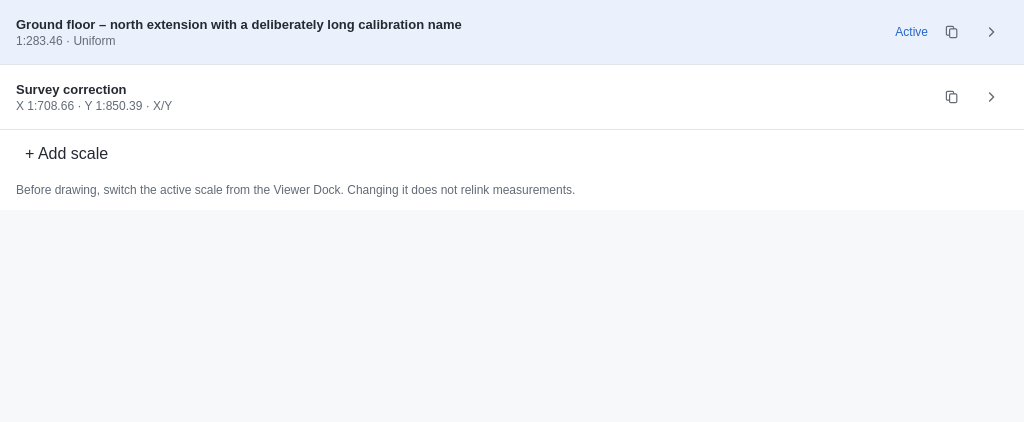
Test: ScalesWorkspace › keeps disclosure and long-name recovery on the dedicated governed target
Expected: the text named "Ground floor – north extension with a deliberately long cali" reads "Ground floor – north extension with a deliberately long calibration name", top-left (16, 16), bottom-right (462, 32)
Click the button named "Expand scale Ground floor – north extension with a deliberat": (992, 32) top-left (976, 16), bottom-right (1008, 48)
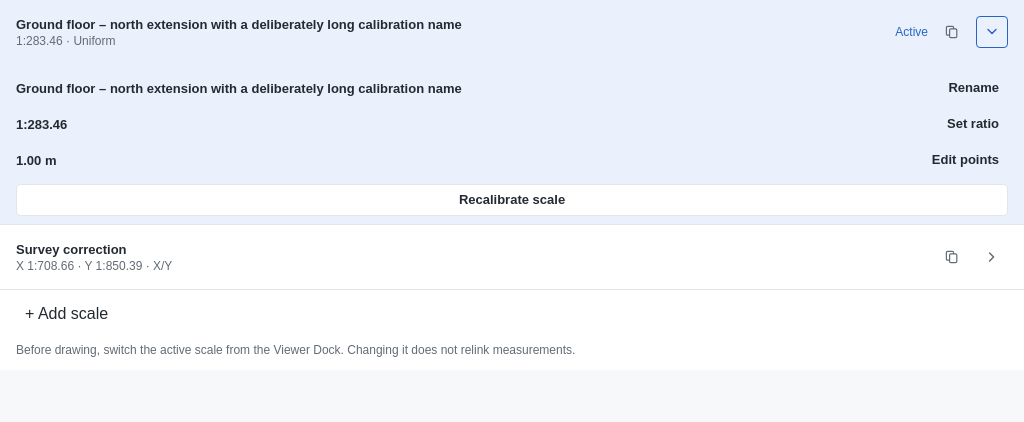
Expected: the text named "Ground floor – north extension with a deliberately long cali" reads "Ground floor – north extension with a deliberately long calibration name", top-left (16, 16), bottom-right (462, 32)
Click the button "Rename": (974, 88) top-left (939, 72), bottom-right (1008, 104)
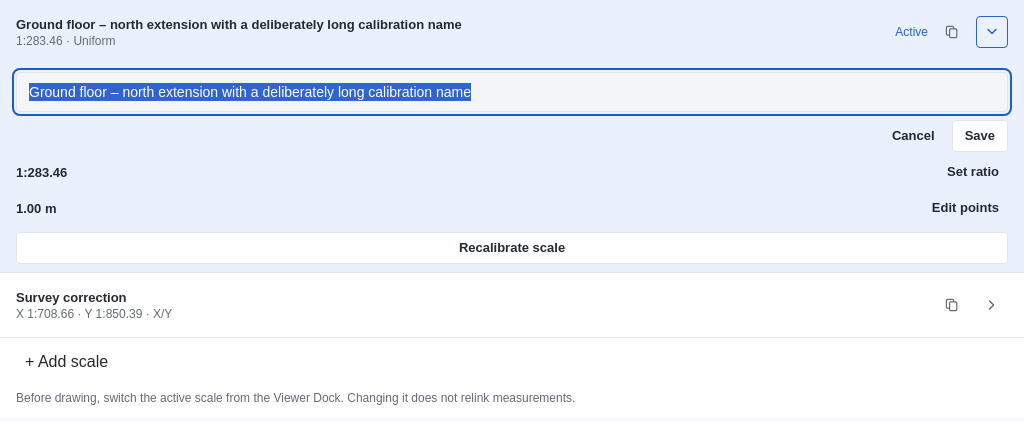
Now the field named "Scale name" holds "Ground floor – north extension with a deliberately long calibration name", box top-left (16, 72), bottom-right (1008, 112)
